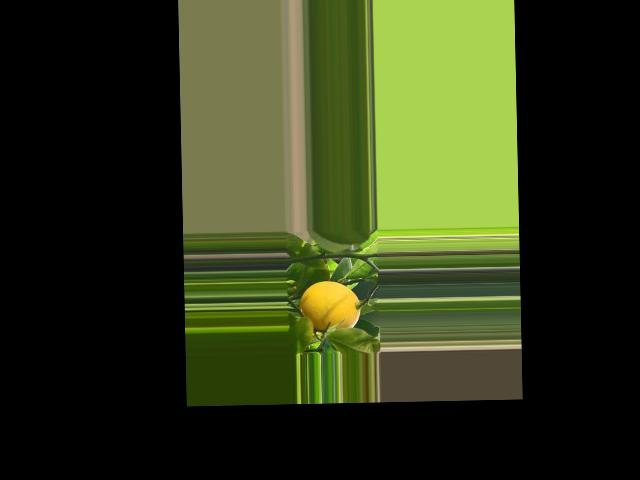lemon: (296, 265, 364, 337)
